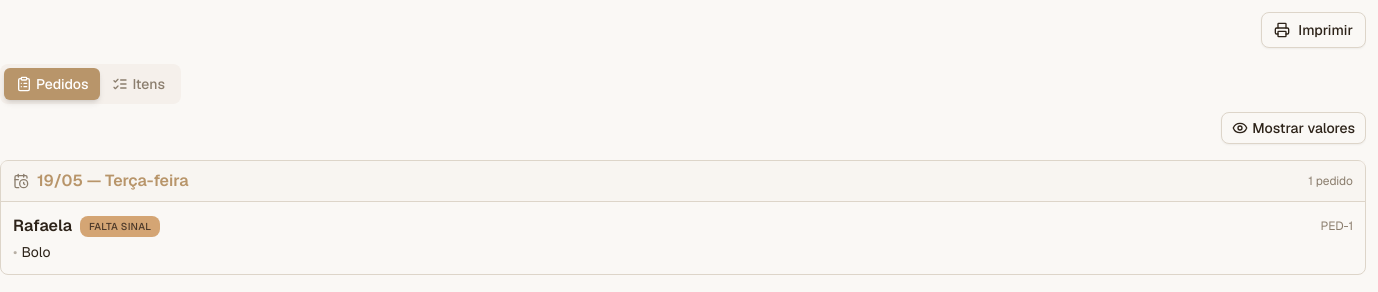
Scenario: ResumoView › switches to the Itens tab on click
This screenshot has width=1378, height=292.
expect the heading "19/05 — Terça-feira" is shown: met, box [37, 169, 189, 193]
Step 1. Click the tab "Itens" → (139, 84), box [100, 68, 177, 100]
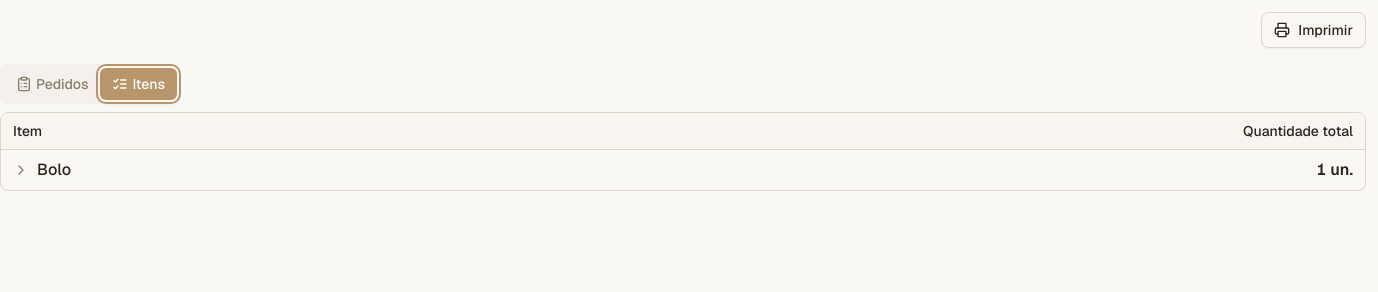
expect the text "Quantidade total" is shown: met, box [1243, 121, 1353, 141]
